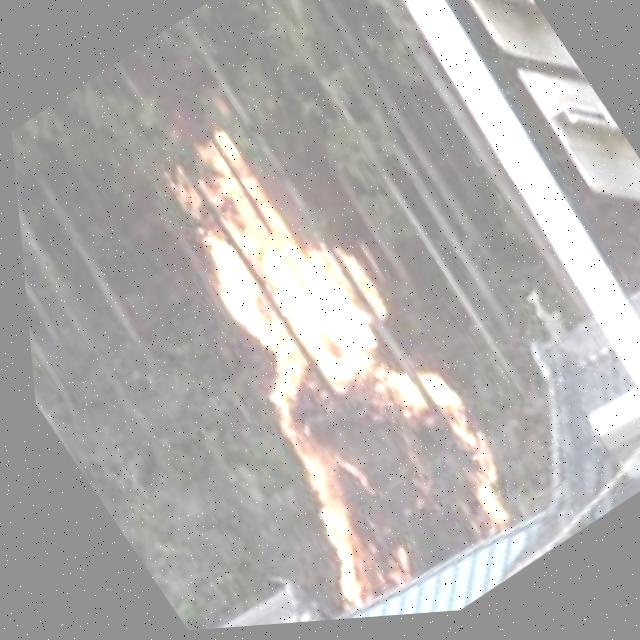Fire: (92, 89, 531, 628)
